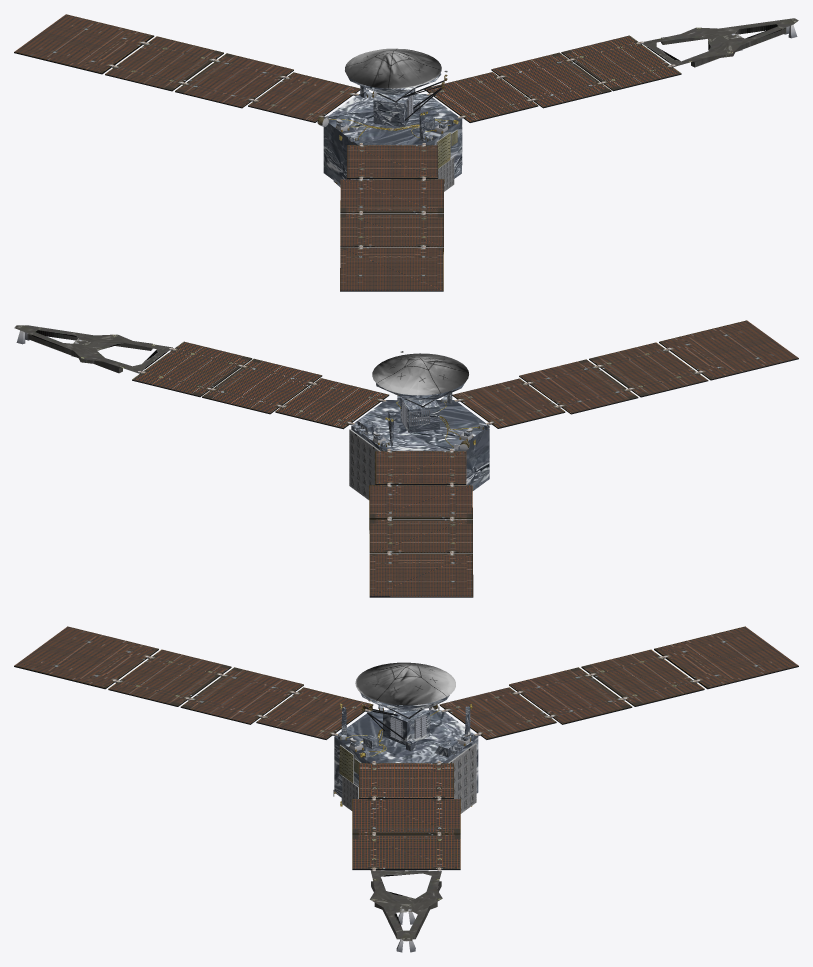
Rendered from juno.glb.
3 renders of one model, top to bottom at view 1: azimuth 30°, elevation 25°; view 2: azimuth 150°, elevation 25°; view 3: azimuth 270°, elevation 25°, orthographic. The views are drawn at different scales.
Parts seen in each view (by area): view 1: shiny_panels_Geometry-Body.021, dish_bottom_Geometry-Mesh, dish_top_Geometry-Mesh.002, solar_panels_Geometry-Body.006, black_krinkle_Geometry-Body.007, tex_01_Geometry-Body.003; view 2: shiny_panels_Geometry-Body.021, dish_bottom_Geometry-Mesh, dish_top_Geometry-Mesh.002, solar_panels_Geometry-Body.006, tex_01_Geometry-Body.003, black_krinkle_Geometry-Body.007; view 3: shiny_panels_Geometry-Body.021, dish_bottom_Geometry-Mesh, tex_01_Geometry-Body.003, dish_top_Geometry-Mesh.002, solar_panels_Geometry-Body.006, black_krinkle_Geometry-Body.007.
Part boxes in pixels (<box>): shiny_panels_Geometry-Body.021: <box>14,14,681,290</box>; dish_bottom_Geometry-Mesh: <box>323,72,462,187</box>; dish_top_Geometry-Mesh.002: <box>345,48,441,88</box>; solar_panels_Geometry-Body.006: <box>340,18,798,253</box>; black_krinkle_Geometry-Body.007: <box>14,36,681,291</box>; tex_01_Geometry-Body.003: <box>110,24,797,248</box>; shiny_panels_Geometry-Body.021: <box>132,320,798,596</box>; dish_bottom_Geometry-Mesh: <box>351,383,489,490</box>; dish_top_Geometry-Mesh.002: <box>372,353,468,395</box>; solar_panels_Geometry-Body.006: <box>14,325,465,533</box>; tex_01_Geometry-Body.003: <box>16,330,702,554</box>; black_krinkle_Geometry-Body.007: <box>132,342,798,597</box>; shiny_panels_Geometry-Body.021: <box>14,626,798,868</box>; dish_bottom_Geometry-Mesh: <box>334,692,478,802</box>; tex_01_Geometry-Body.003: <box>112,655,699,952</box>; dish_top_Geometry-Mesh.002: <box>355,662,455,705</box>; solar_panels_Geometry-Body.006: <box>352,870,460,941</box>; black_krinkle_Geometry-Body.007: <box>14,649,798,869</box>.
Bounding box in the file's own units: 17.61 × 3.83 × 18.54.
9 materials, 9 textured.
